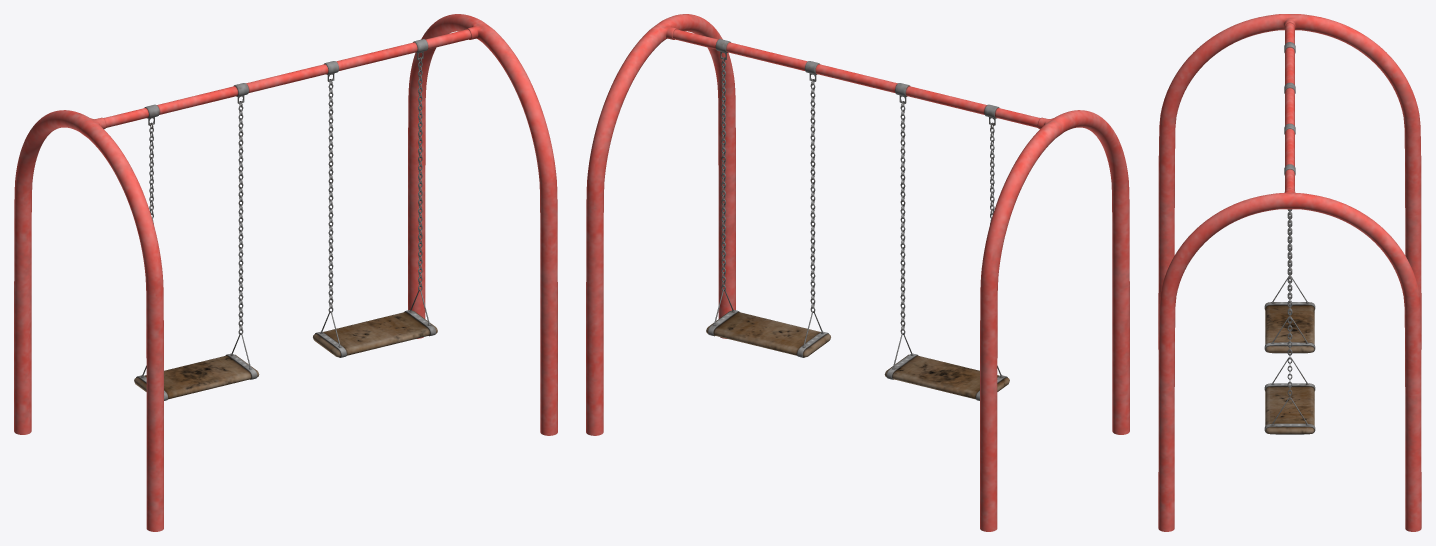
The model's file is Swings.fbx.
3 renders of one model, left to right at view 1: azimuth 30°, elevation 25°; view 2: azimuth 150°, elevation 25°; view 3: azimuth 270°, elevation 25°, orthographic. The views are drawn at different scales.
Parts seen in each view (by area): view 1: Swings; view 2: Swings; view 3: Swings.
Part boxes in pixels (x1,y1,x2,y2): Swings: (14, 14, 557, 531); Swings: (586, 14, 1129, 531); Swings: (1158, 14, 1421, 531).
Bounding box in the file's own units: 2852 × 2395 × 1705.
